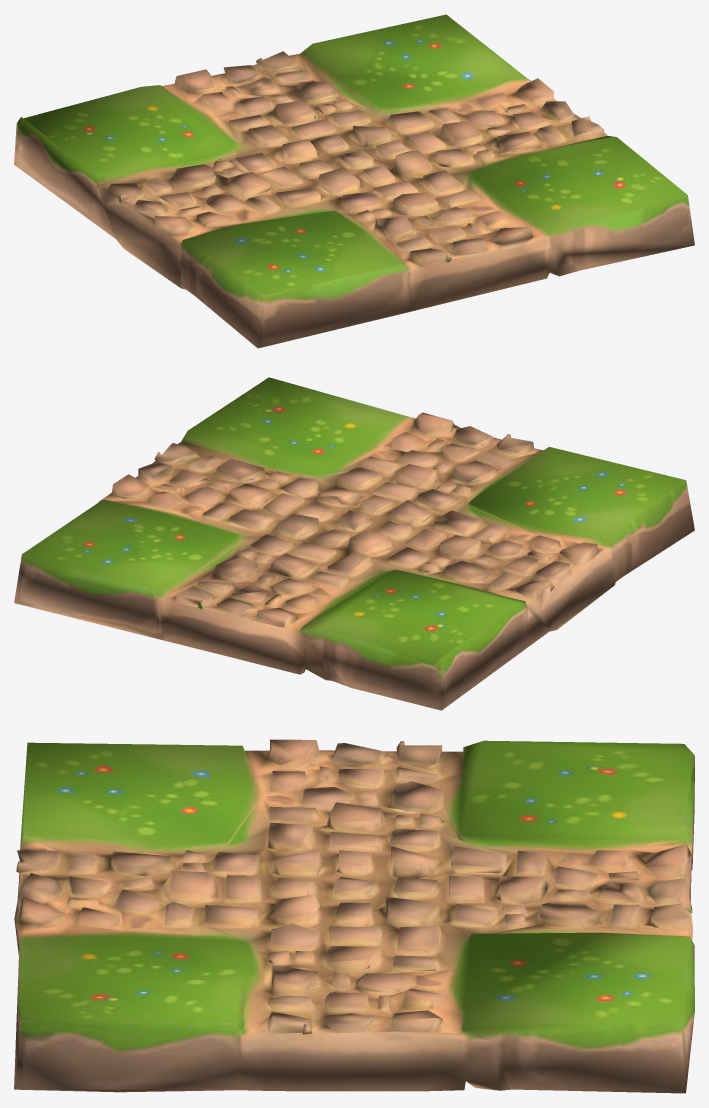
File: path-cross.glb
3 views of the same model, one above another, from view 1: azimuth 30°, elevation 25°; view 2: azimuth 150°, elevation 25°; view 3: azimuth 270°, elevation 25° (orthographic). The views are drawn at different scales.
Parts seen in each view (by area): view 1: Mesh1.0; view 2: Mesh1.0; view 3: Mesh1.0.
Part boxes in pixels (x1,y1,x2,y2): Mesh1.0: (14,14,694,348); Mesh1.0: (14,377,694,710); Mesh1.0: (14,739,694,1093).
Bounding box in the file's own units: 1.89 × 0.2252 × 1.89.
1 material, 1 textured.
